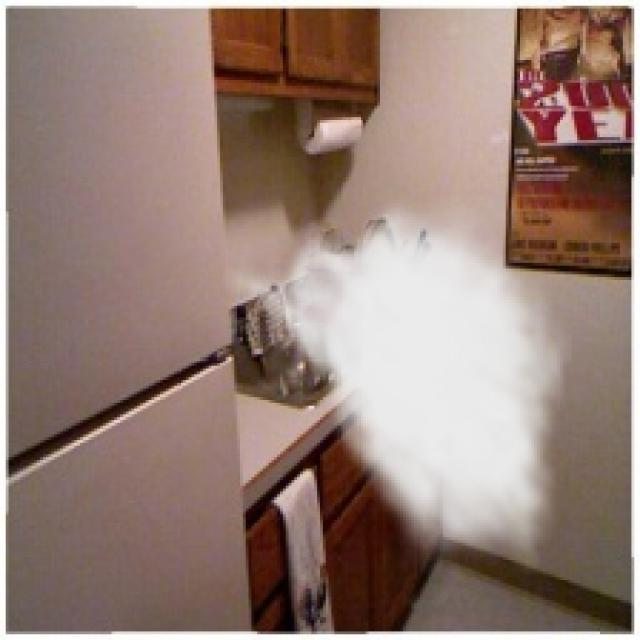Smoke: (217, 192, 574, 577)
